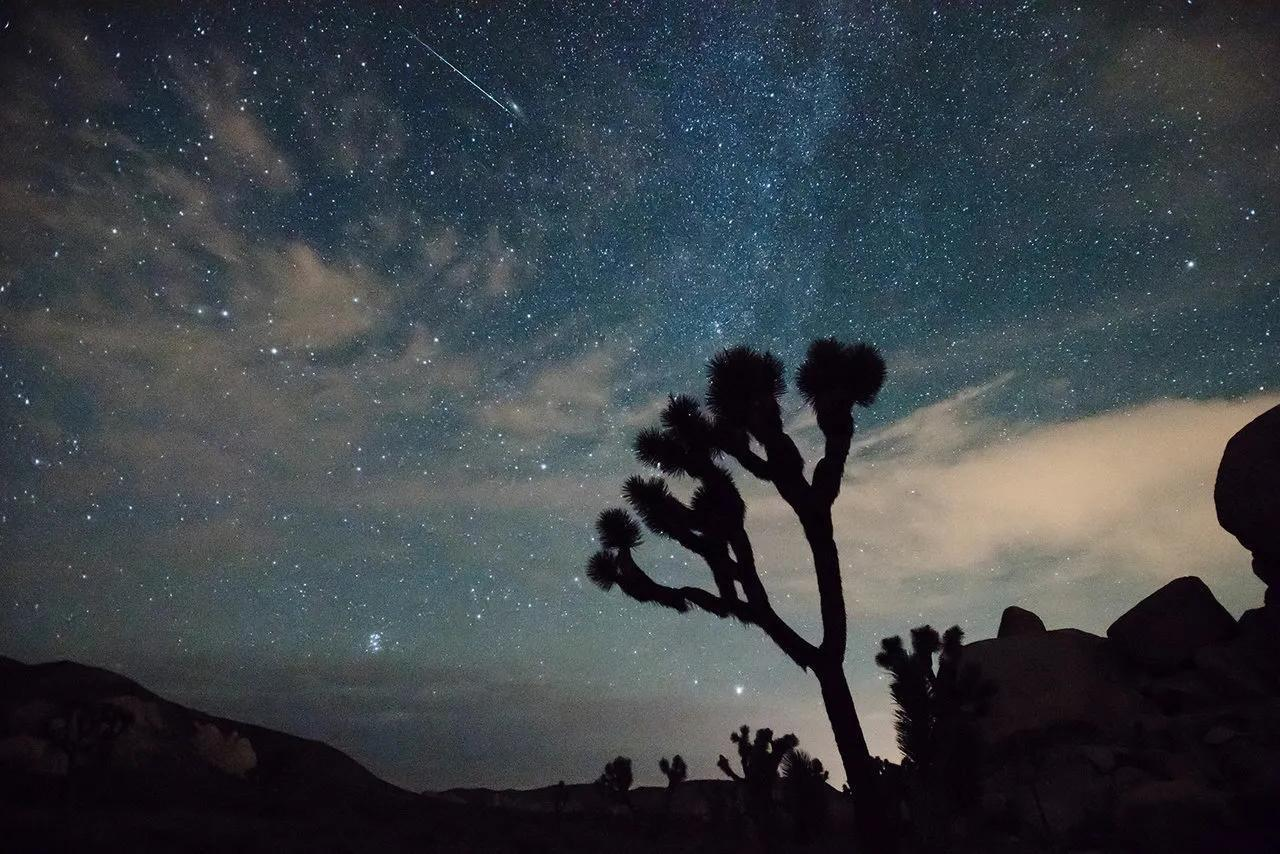meteorite: (398, 35, 541, 125)
